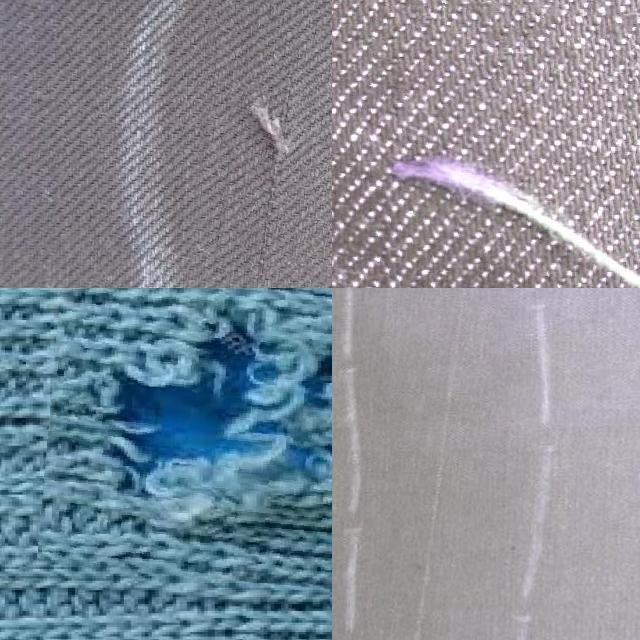other: (42, 288, 332, 589)
stains: (332, 0, 640, 288), (377, 288, 501, 640), (190, 0, 332, 288)
